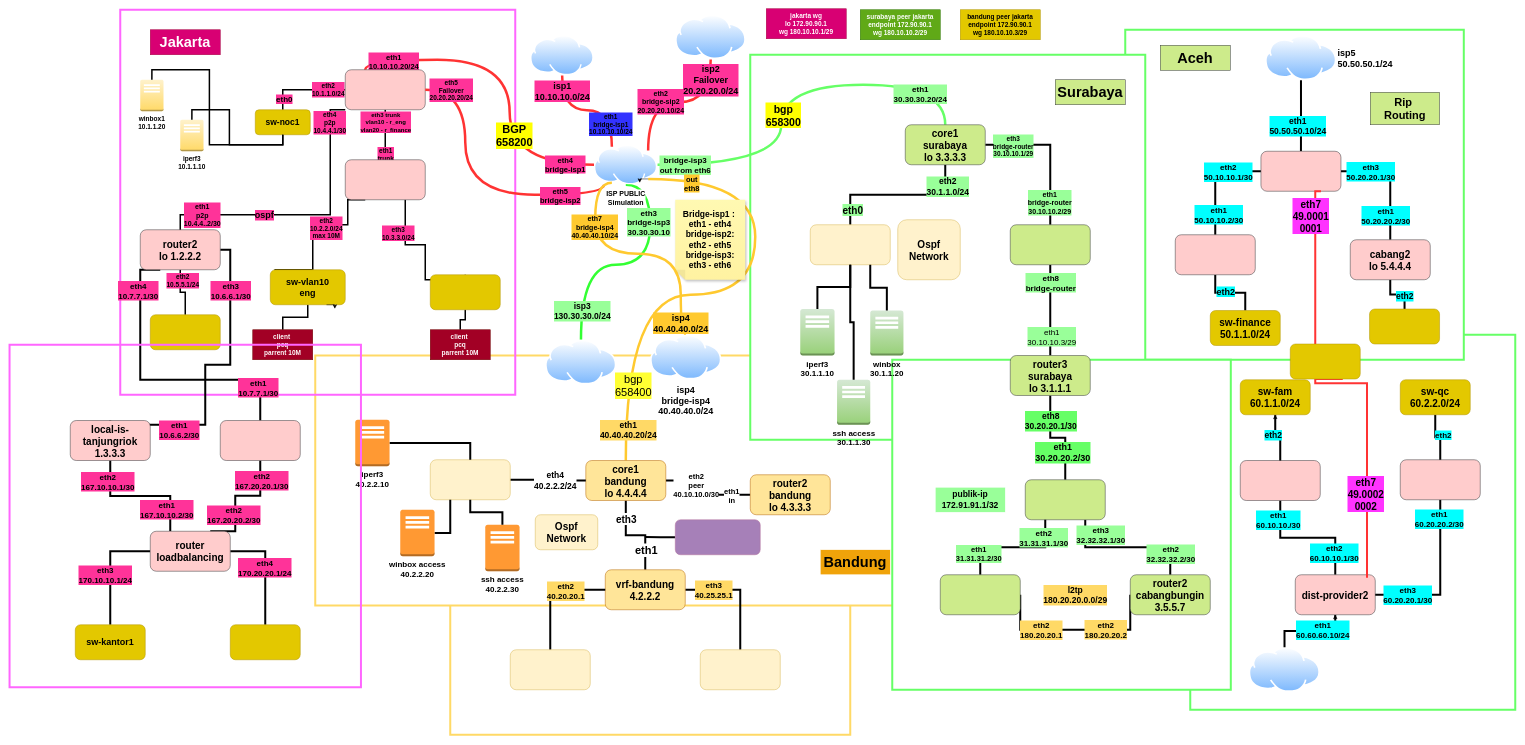
Some shapes in this 1525 by 745 pixel diagram are drawn without their labels. Each missing label, with the centre of its shape:
cabang1 lo 5.5.5.5: the point at 1215,254
cabang3 lo 5.3.3.3: the point at 1280,480
cabang4 lo 5.2.2.2: the point at 1440,479
Core1 lo 1.1.1.1: the point at 385,89
dist-provider: the point at 1300,171
DiST1: the point at 385,179
IS-IS Routing: the point at 1325,361
isp3 bridge-isp3 30.30.30.0/24: the point at 580,362
isp6 60.60.60.1/24: the point at 1284,669
local-is-tanjungriok2 1.4.4.4: the point at 260,440
local-isp cabangbungin lo 3.5.5.5: the point at 1065,499
peer 40.15.15.0/30: the point at 717,537
router1 cabangbungin 3.5.5.6: the point at 980,594
router2 surabaya lo 3.2.2.2: the point at 1050,244
sw-animate 50.2.2.0/24: the point at 1404,326
sw-humas 40.25.25.0/24: the point at 740,669
sw-kantor2: the point at 265,642
sw-manager 40.20.20.0/24: the point at 550,669
sw-noc bandung: the point at 470,479
sw-noc surabaya: the point at 850,244
sw-render: the point at 185,332
sw-vlan20 finance: the point at 465,292
